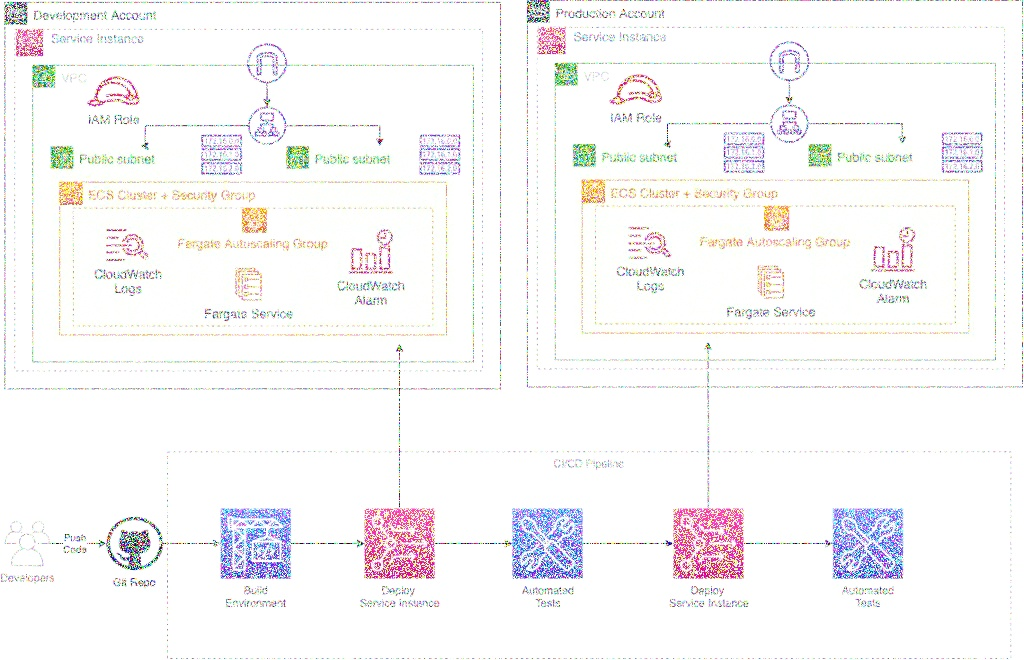ALB: (767, 102, 813, 144), (245, 104, 289, 146)
Automated Tests: (508, 502, 587, 583), (830, 504, 906, 582)
Build Environment: (217, 503, 295, 584)
Cloud Watch: (625, 217, 676, 263), (104, 225, 155, 267)
CloudWatch Alarm: (867, 222, 922, 276), (345, 224, 397, 276)
DSI: (360, 504, 438, 584), (670, 504, 746, 583)
EC2: (232, 264, 267, 304), (754, 262, 787, 302)
Elastic Container Service: (56, 176, 86, 208), (577, 176, 607, 205)
Fargate: (240, 206, 270, 236), (763, 204, 792, 233)
Github: (105, 511, 164, 574)
IAM Role: (88, 72, 143, 110), (609, 72, 668, 107)
Instances: (14, 26, 46, 57), (537, 25, 567, 57)
Internet Gateway: (769, 32, 812, 85), (244, 37, 291, 85)
Public Subnet: (571, 141, 597, 169), (807, 142, 833, 168), (284, 145, 310, 170), (50, 145, 73, 171)
Users: (3, 515, 51, 571)
aws: (3, 0, 31, 30), (527, 0, 552, 24)
